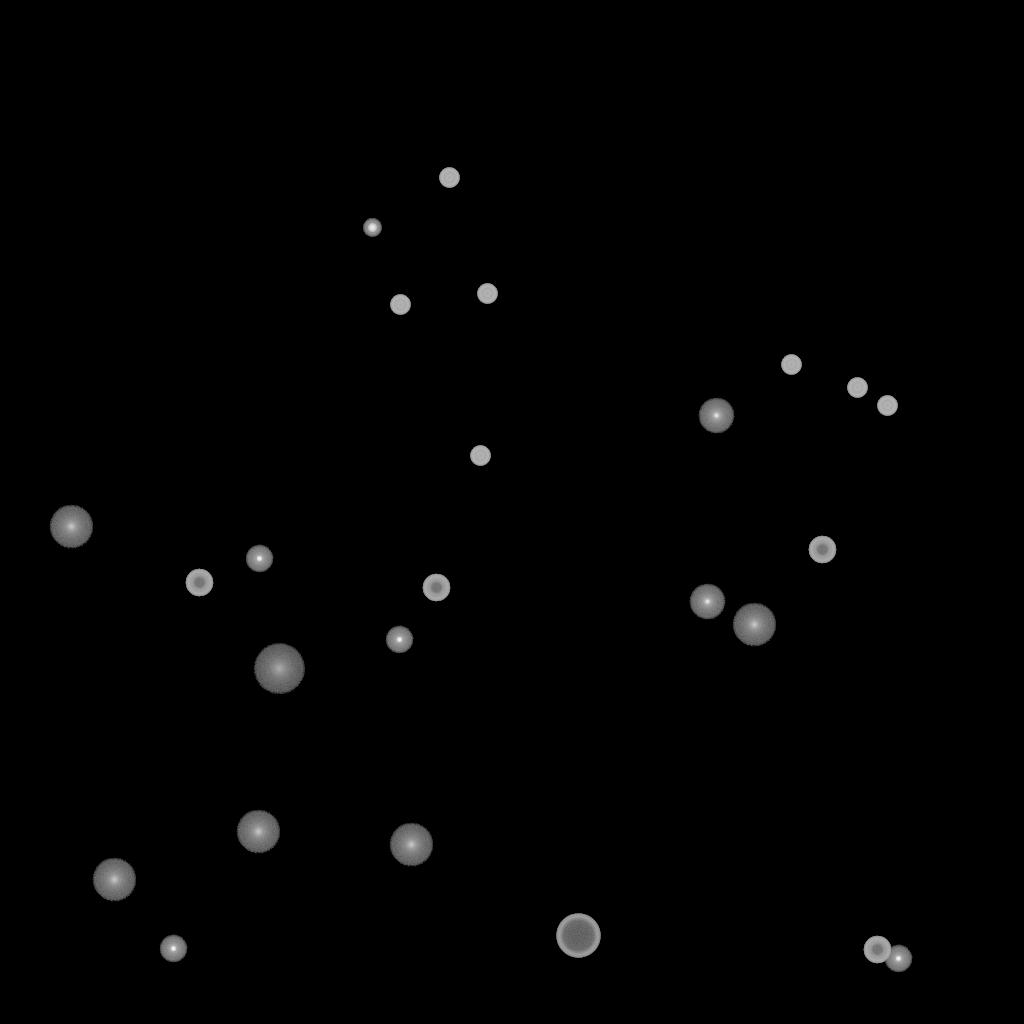depth:-10: (245, 545, 273, 573), (884, 945, 912, 973), (385, 626, 413, 654), (159, 935, 187, 963)
depth:-20: (363, 219, 381, 237)
depth:-40: (877, 396, 897, 416), (781, 355, 801, 375), (390, 295, 410, 315), (477, 284, 497, 304), (470, 446, 490, 466), (847, 378, 867, 398), (439, 168, 459, 188)
depth:-50: (808, 536, 836, 564), (422, 574, 450, 602), (185, 569, 213, 597), (863, 936, 891, 964)
depth:-70: (556, 914, 600, 958)
depth:0: (698, 398, 734, 434), (689, 584, 725, 620)
depth:10: (389, 823, 433, 867), (236, 810, 280, 854), (92, 858, 136, 902), (732, 603, 776, 647), (49, 505, 93, 549)
depth:20: (253, 644, 305, 694)
